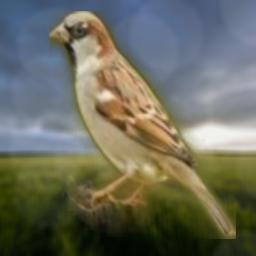Sparrow: (49, 11, 236, 239)
